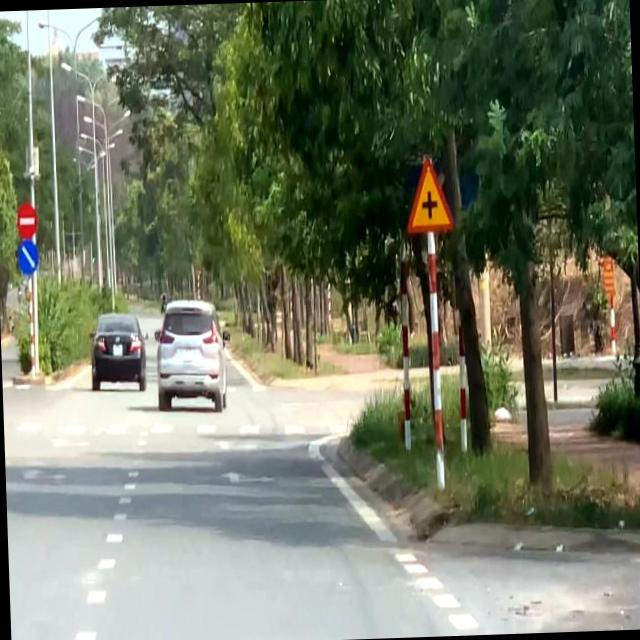P-102: (16, 200, 39, 240)
R-302a: (14, 238, 38, 272)
W-205a: (400, 149, 451, 233)
